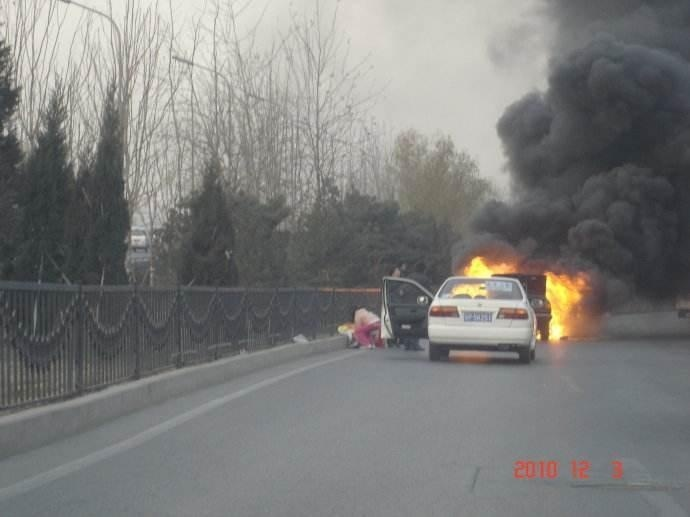fire: (543, 269, 587, 340), (454, 255, 499, 295)
